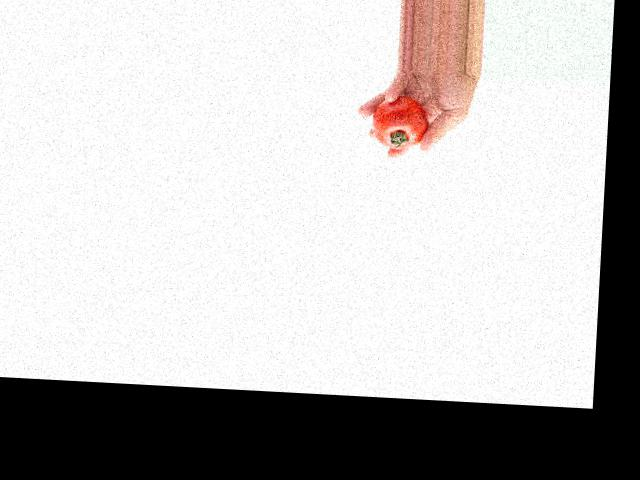tomato: (370, 94, 429, 150)
